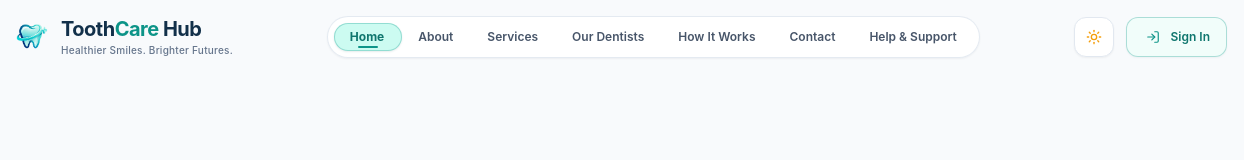
Scenario: LandingNavbar Section Navigation & Active Highlight › marks Home active initially and switches aria-current & highlight cleanly on click
The width and height of the screenshot is (1244, 160).
Later steps or results of the test are not shown.
Click the link "Contact" at [812, 36], box [790,28,835,44]
(page scrolled)
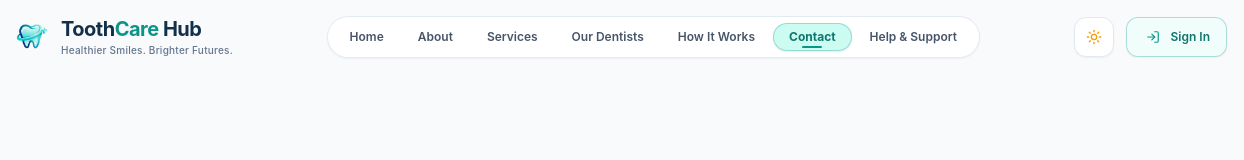
Now the link "Contact" has attribute aria-current="location", box [789,28,836,44]
Now the link "Home" does not have attribute aria-current, box [350,28,384,44]
